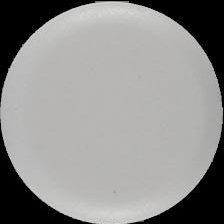54868-3059: (0, 0, 224, 224)
